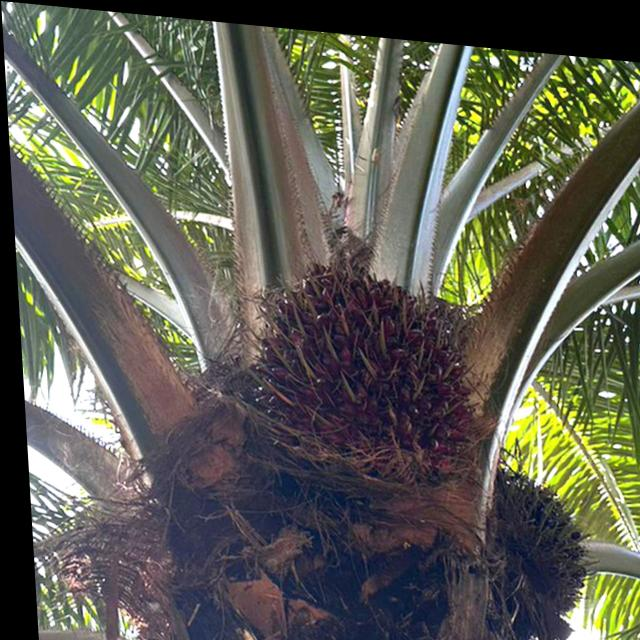ripe: (228, 235, 485, 489)
